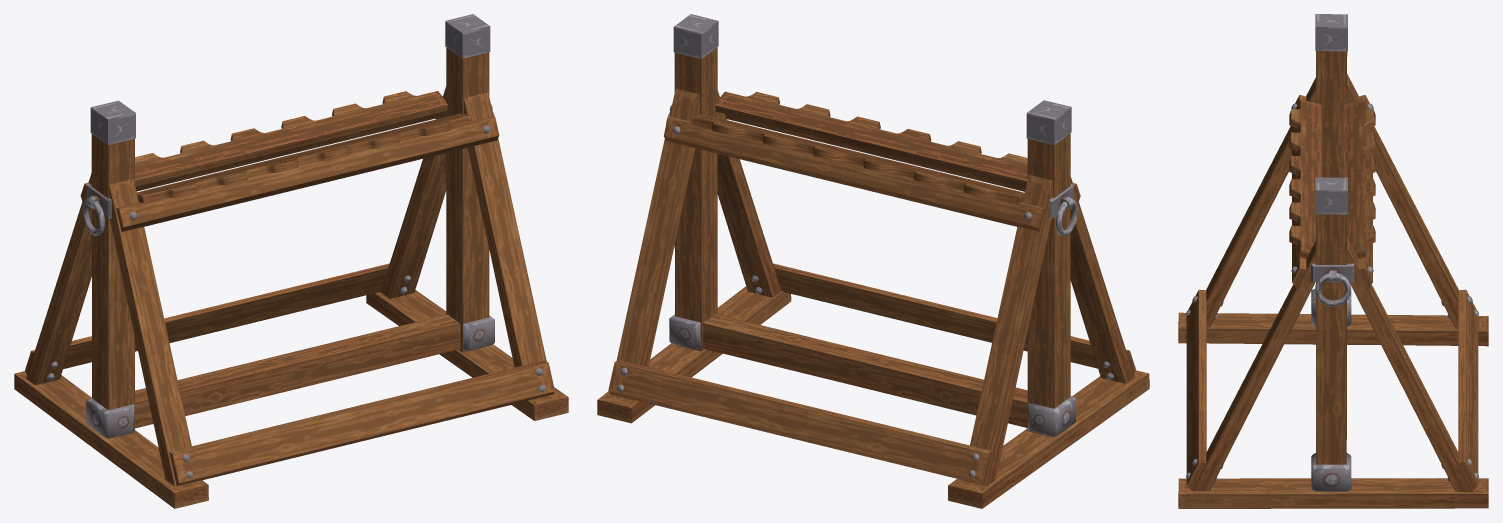
File: WeaponStand.gltf
3 views of the same model, side by side, from view 1: azimuth 30°, elevation 25°; view 2: azimuth 150°, elevation 25°; view 3: azimuth 270°, elevation 25° (orthographic). The views are drawn at different scales.
Parts seen in each view (by area): view 1: WeaponStand; view 2: WeaponStand; view 3: WeaponStand.
Part boxes in pixels (bbox=[...]): WeaponStand: bbox=[14, 14, 568, 508]; WeaponStand: bbox=[597, 14, 1149, 508]; WeaponStand: bbox=[1178, 14, 1488, 508].
Size of the model in its own units: 1.39 by 1.11 by 0.9831.
2 materials, 2 textured.
